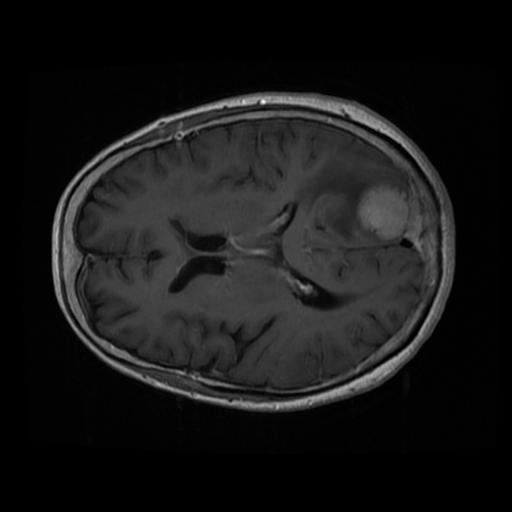meningioma: (355, 184, 409, 239)
